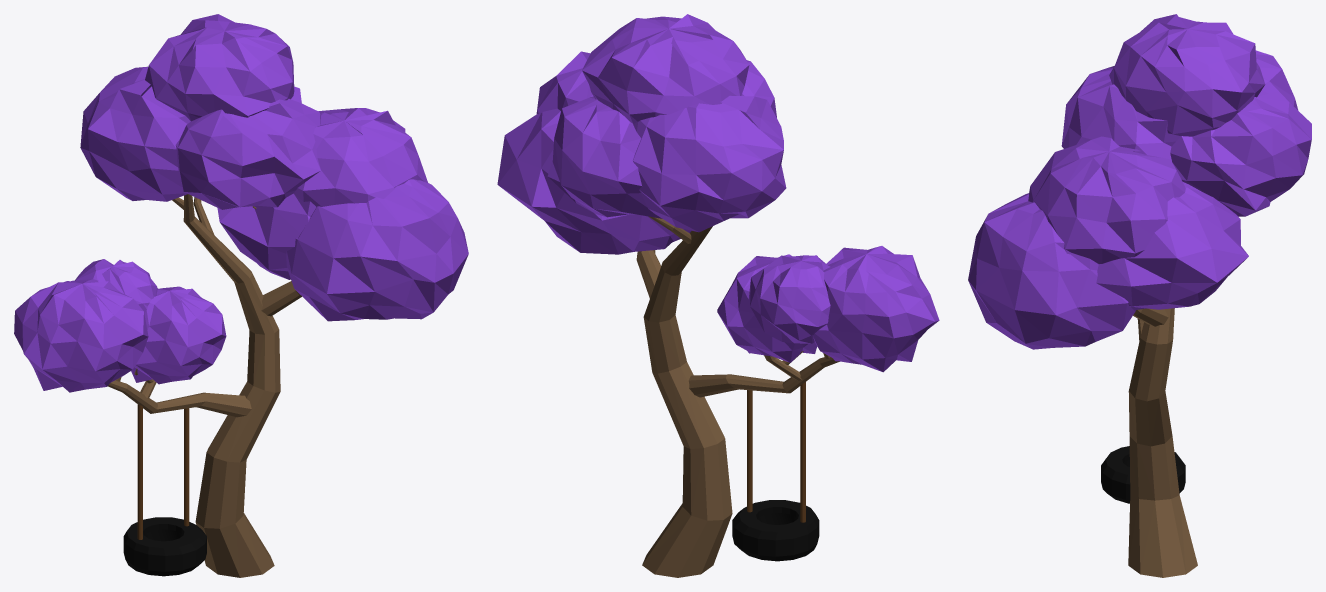
File: tyreswing.fbx
3 views of the same model, side by side, from view 1: azimuth 30°, elevation 25°; view 2: azimuth 150°, elevation 25°; view 3: azimuth 270°, elevation 25° (orthographic). The views are drawn at different scales.
Parts seen in each view (by area): view 1: Sphere001, bigtree, Sphere005, Sphere007, Sphere010, Sphere003, Sphere004, Sphere008, Sphere002, tyre, Sphere009, rope1 (+1 smaller); view 2: bigtree, Sphere003, Sphere010, Sphere007, Sphere002, Sphere006, Sphere009, tyre, Sphere008, Sphere004, rope1, Sphere005 (+1 smaller); view 3: Sphere001, Sphere004, Sphere010, bigtree, Sphere006, Sphere002, Sphere005, tyre, Sphere003.
Boxes of the visible parts, box(x1,y1,x2,y2) form: Sphere001: box(286, 179, 468, 321); bigtree: box(108, 194, 301, 577); Sphere005: box(175, 88, 320, 209); Sphere007: box(14, 279, 148, 392); Sphere010: box(145, 14, 294, 121); Sphere003: box(80, 66, 190, 201); Sphere004: box(293, 108, 427, 206); Sphere008: box(131, 286, 226, 384); Sphere002: box(217, 193, 316, 279); tyre: box(123, 517, 206, 576); Sphere009: box(75, 259, 157, 312); rope1: box(137, 404, 142, 539); bigtree: box(636, 216, 839, 577); Sphere003: box(633, 94, 786, 232); Sphere010: box(582, 14, 749, 123); Sphere007: box(813, 246, 939, 372); Sphere002: box(497, 108, 688, 254); Sphere006: box(547, 96, 662, 218); Sphere009: box(748, 255, 830, 343); tyre: box(732, 500, 819, 561); Sphere008: box(717, 254, 817, 362); Sphere004: box(536, 51, 593, 114); rope1: box(800, 382, 805, 522); Sphere005: box(742, 60, 776, 117); Sphere001: box(968, 193, 1135, 349); Sphere004: box(1028, 136, 1185, 263); Sphere010: box(1109, 14, 1265, 136); bigtree: box(1128, 308, 1197, 577); Sphere006: box(1170, 90, 1311, 216); Sphere002: box(1096, 182, 1248, 309); Sphere005: box(1061, 66, 1180, 161); tyre: box(1101, 446, 1185, 503); Sphere003: box(1255, 50, 1298, 110).
Size of the model in its own units: 377 by 472 by 274.
